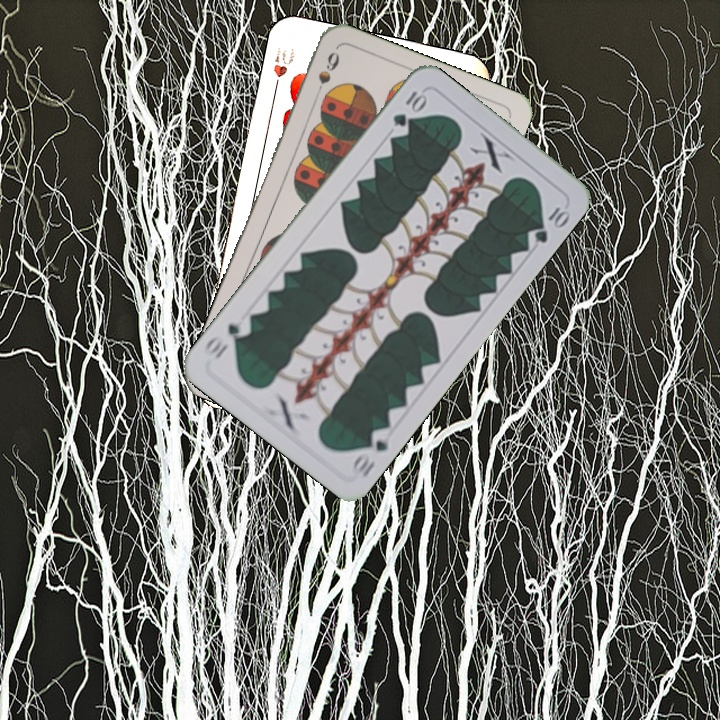G10: (346, 423, 391, 480), (388, 87, 429, 130)
H10: (269, 42, 297, 97)
S9: (310, 48, 342, 103)
